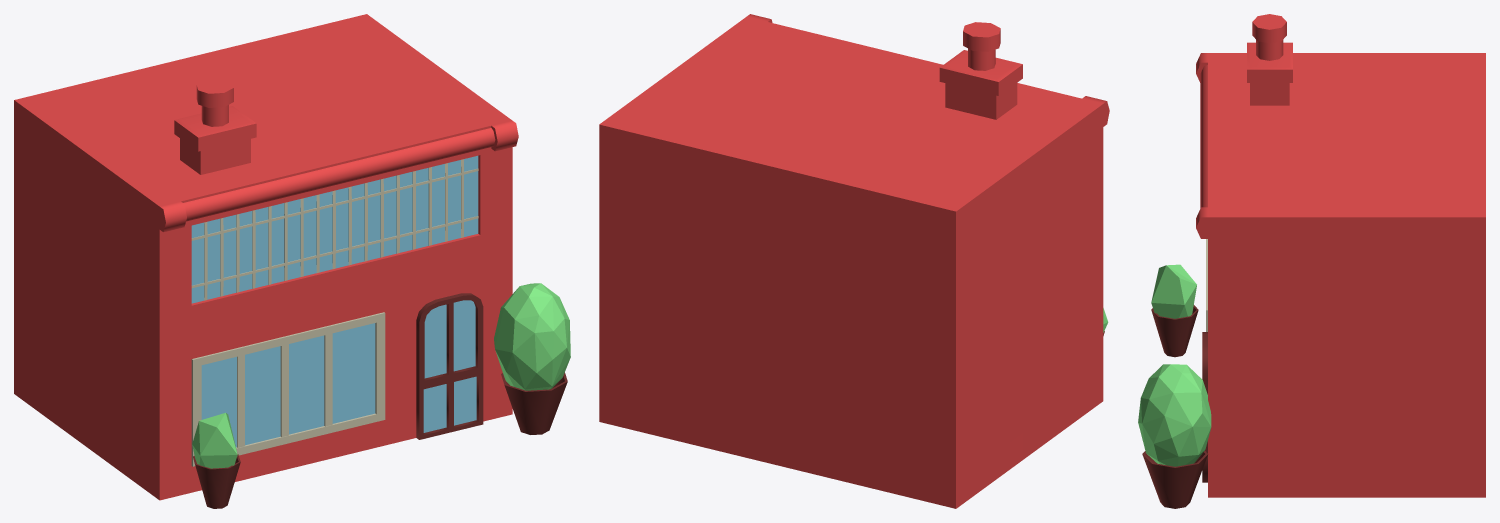
Rendered from Building.fbx.
3 views of the same model, side by side, from view 1: azimuth 30°, elevation 25°; view 2: azimuth 150°, elevation 25°; view 3: azimuth 270°, elevation 25° (orthographic). The views are drawn at different scales.
Parts seen in each view (by area): view 1: Cube.001; view 2: Cube.001; view 3: Cube.001.
Boxes of the visible parts, box(x1,y1,x2,y2) form: Cube.001: box(14, 14, 570, 508); Cube.001: box(599, 14, 1109, 508); Cube.001: box(1138, 14, 1485, 508).
Size of the model in its own units: 1810 by 1652 by 1466.
